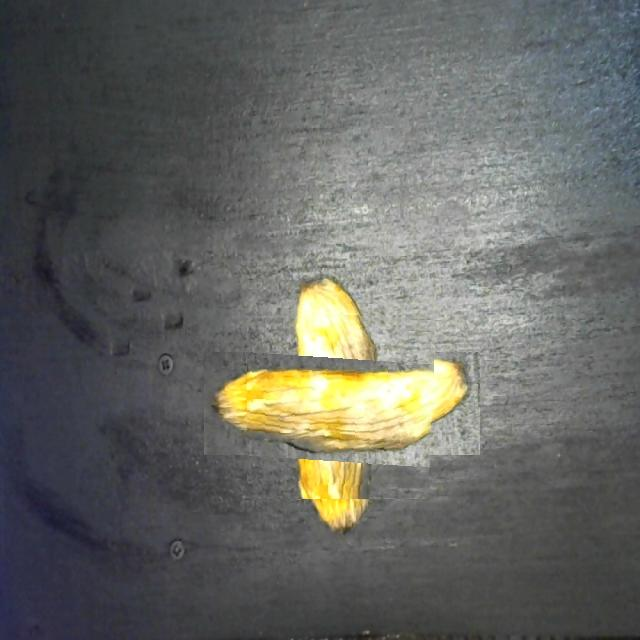biodegradable: (247, 308, 436, 499)
